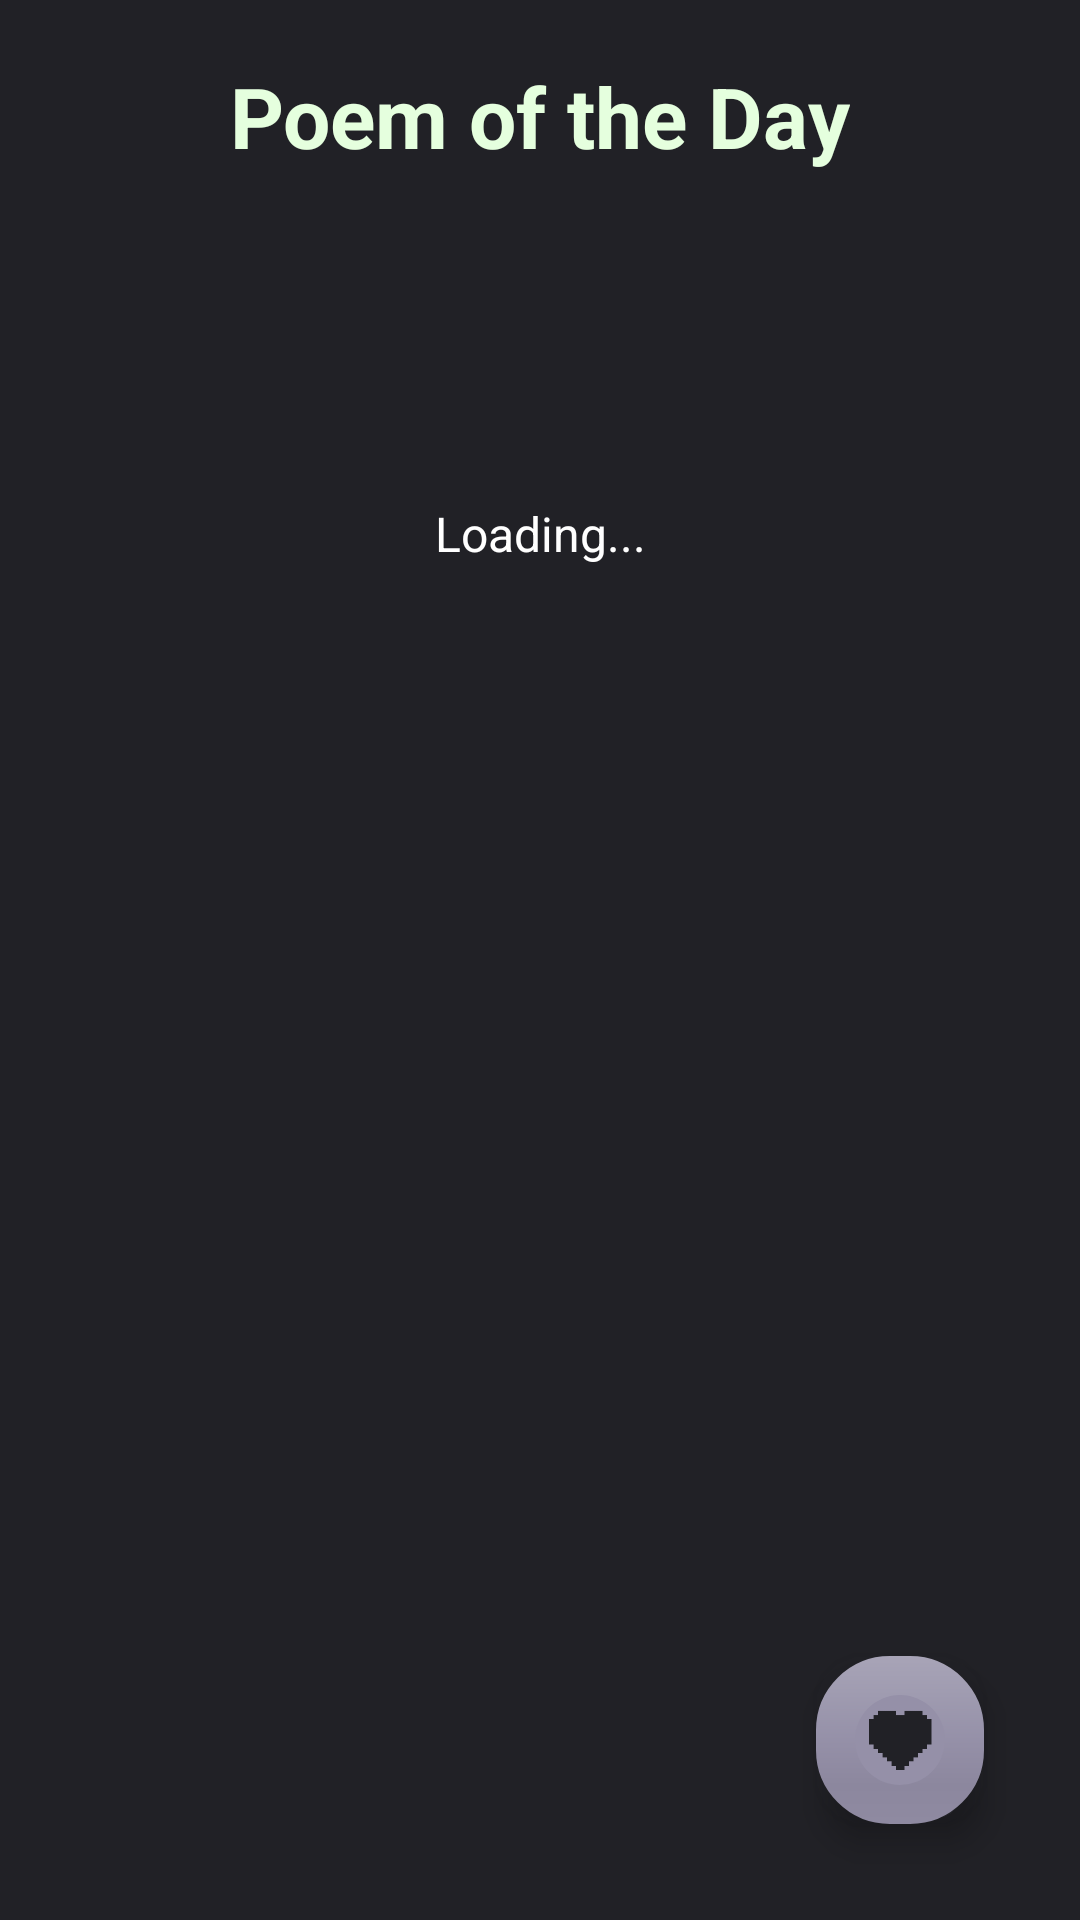

Icon click points for this 1080px×1920px phone screenshot, format point (x, y):
heartimg: point (900, 1740)
